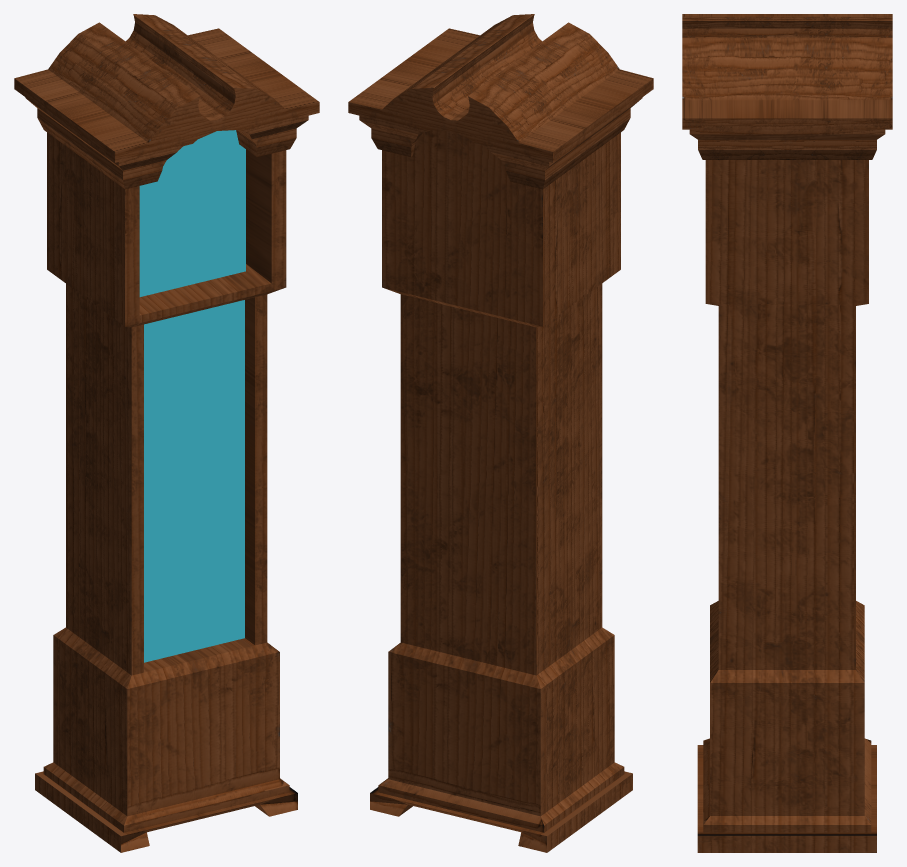
File: RelojRaro.fbx
3 renders of one model, left to right at view 1: azimuth 30°, elevation 25°; view 2: azimuth 150°, elevation 25°; view 3: azimuth 270°, elevation 25°, orthographic. The views are drawn at different scales.
Visible parts, largest first — view 1: Reloj Rrao; view 2: Reloj Rrao; view 3: Reloj Rrao.
Part boxes in pixels (x1,y1,x2,y2): Reloj Rrao: [14, 14, 319, 852]; Reloj Rrao: [348, 14, 653, 852]; Reloj Rrao: [682, 14, 892, 852].
Size of the model in its own units: 56.33 by 196 by 48.02.
